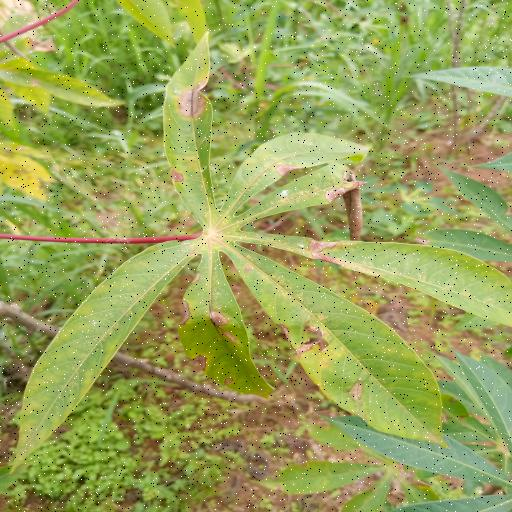Cassava_Brown_Leaf_Spot: (21, 33, 512, 472)
